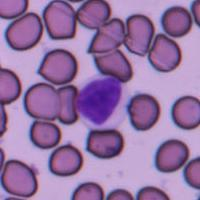L: (74, 74, 125, 130)
